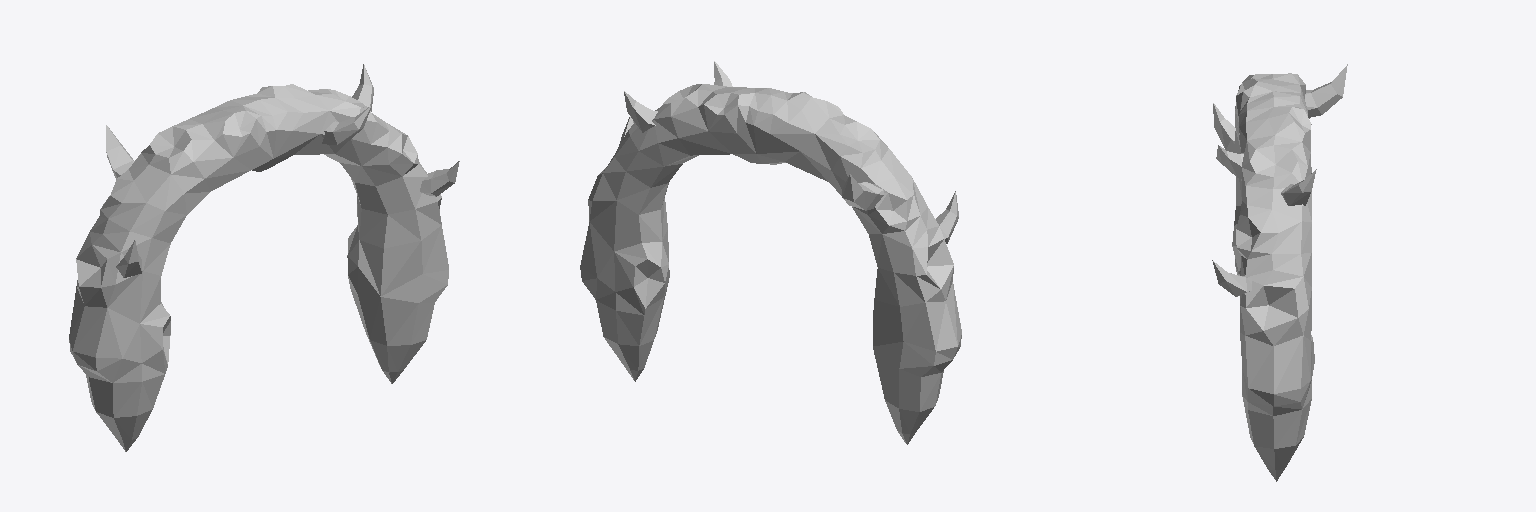
File: stone_arch_lava_red.obj
The picture shows the model from 3 angles: view 1: azimuth 30°, elevation 25°; view 2: azimuth 150°, elevation 25°; view 3: azimuth 270°, elevation 25°; orthographic projection.
Parts seen in each view (by area): view 1: stone_arch_lava_red; view 2: stone_arch_lava_red; view 3: stone_arch_lava_red.
Part boxes in pixels (x1,y1,x2,y2): stone_arch_lava_red: (69,64,459,451); stone_arch_lava_red: (580,61,961,444); stone_arch_lava_red: (1212,64,1347,481).
Bounding box in the file's own units: 703 × 576 × 221.